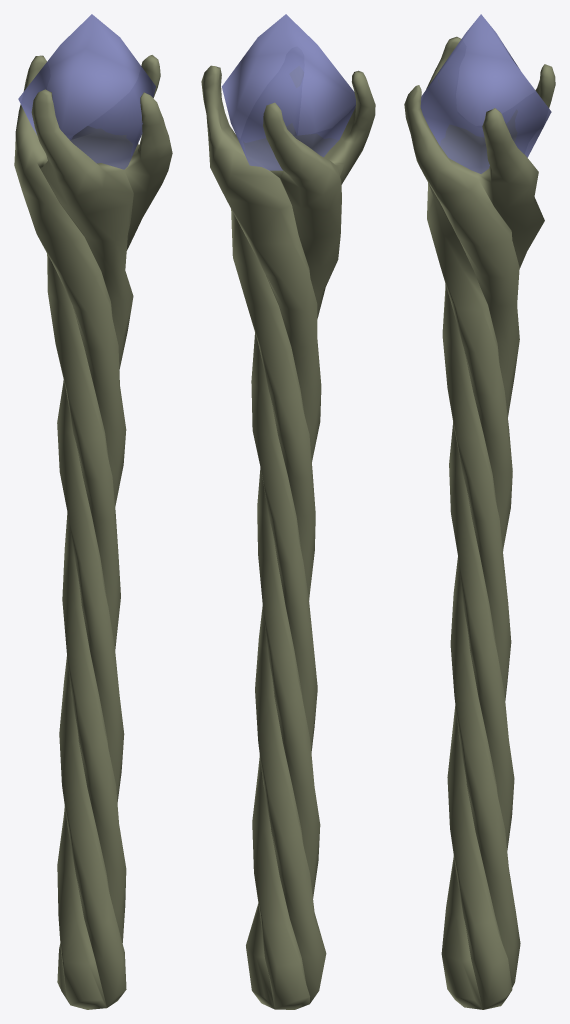
The model's file is Staff.fbx.
The picture shows the model from 3 angles, left to right: view 1: azimuth 30°, elevation 25°; view 2: azimuth 150°, elevation 25°; view 3: azimuth 270°, elevation 25°; orthographic projection.
Visible parts, largest first — view 1: staff_main, Cristal; view 2: staff_main, Cristal; view 3: staff_main, Cristal.
Boxes of the visible parts, x1,y1,x2,y2 form: staff_main: (14,55,172,1009); Cristal: (18,14,155,169); staff_main: (201,65,375,1009); Cristal: (221,14,355,170); staff_main: (404,36,555,1009); Cristal: (420,14,551,173).
Size of the model in its own units: 33.77 by 217 by 30.17.
